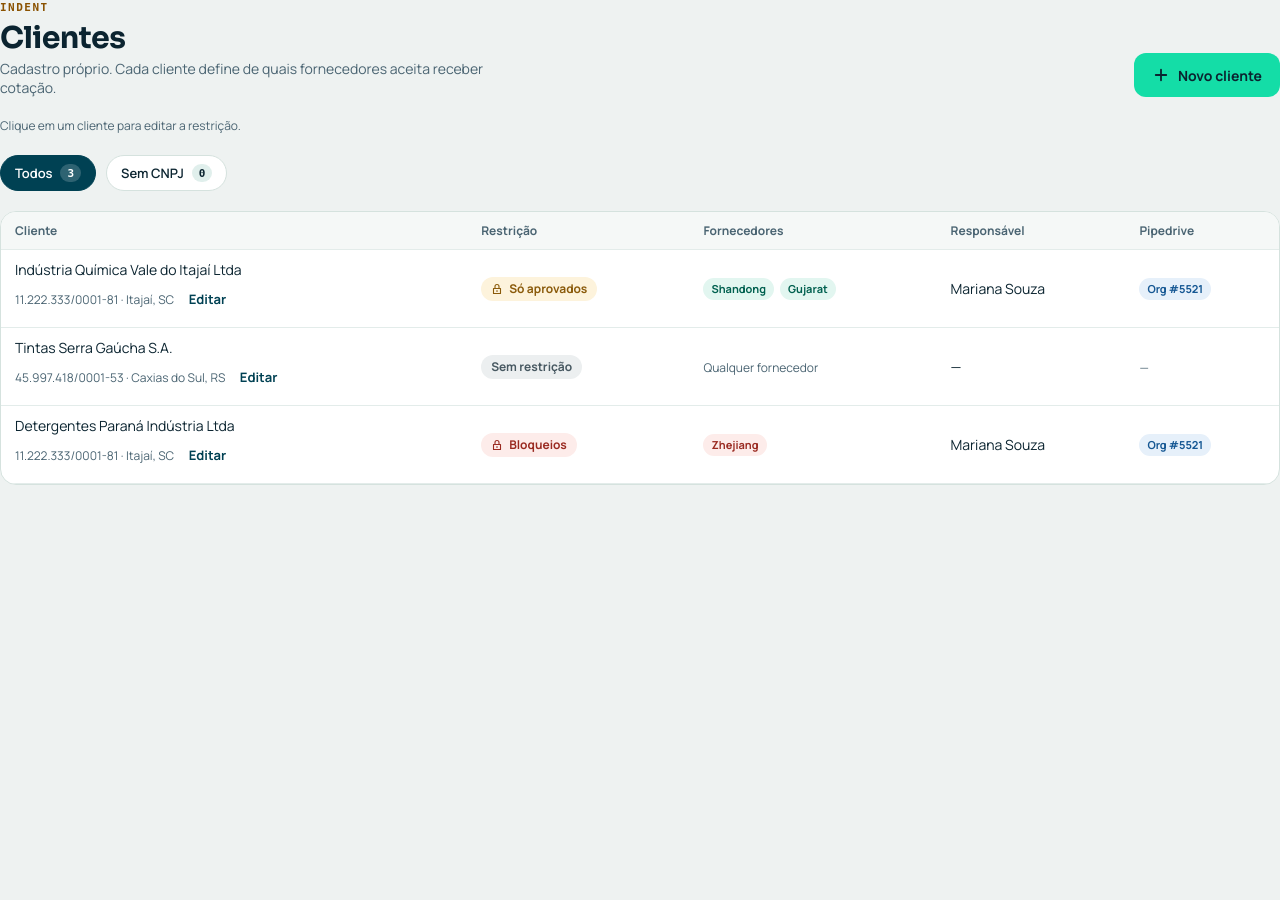
Test case: IndentClientes › modal de restricao: eyebrow, titulo, 3 cartoes com os textos do mock, lista, motivo e alerta
Click the text "Indústria Química Vale do Itajaí Ltda" at (640, 288), box [1,250,1279,328]
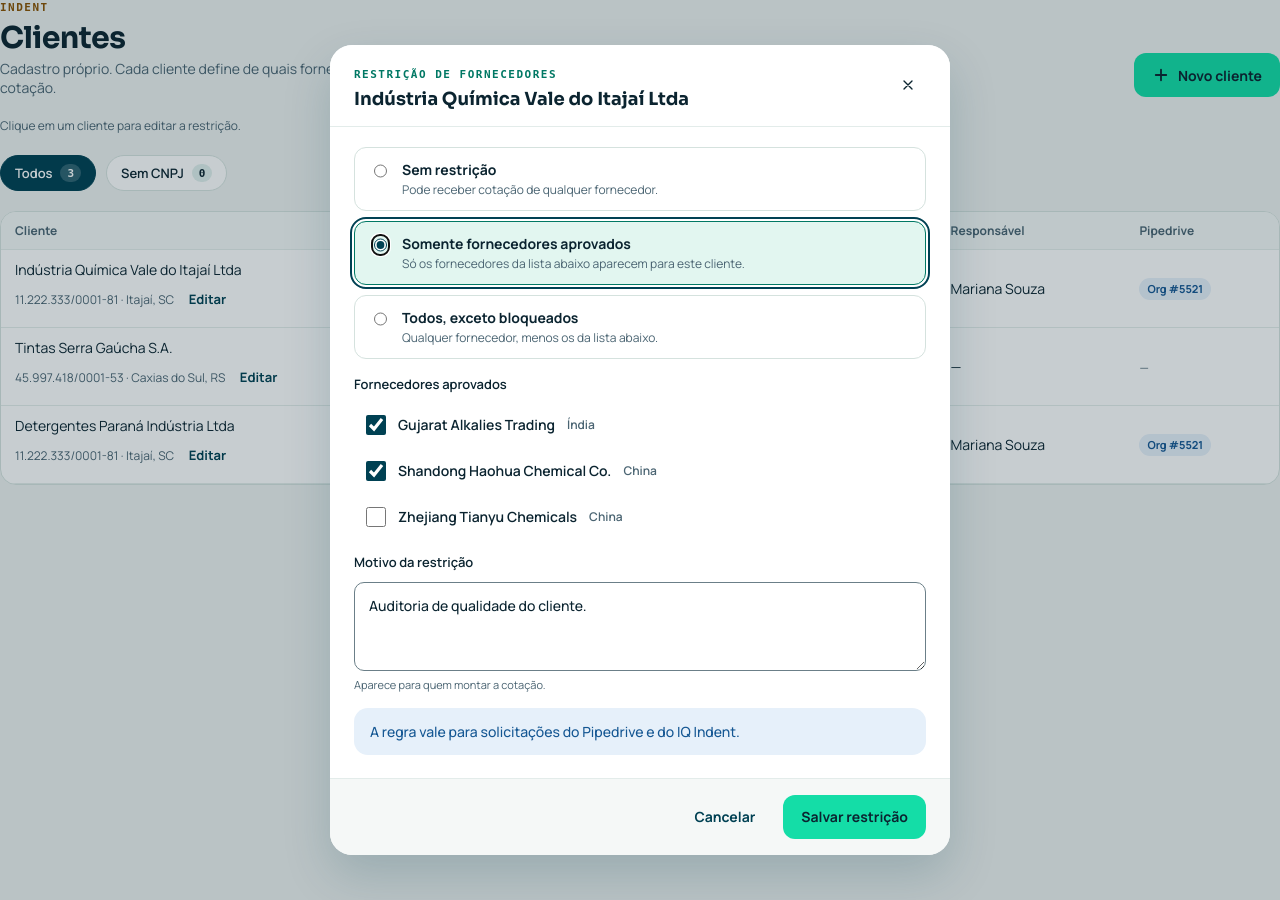
Expected: the text with class "modal-eyebrow" reads "Restrição de fornecedores", [354,68,557,81]
Expected: the number of radio buttons is 3, [374,162,387,178]; [374,236,387,252]; [374,310,387,326]
Expected: the text "Sem restrição" is shown, [402,160,496,178]
